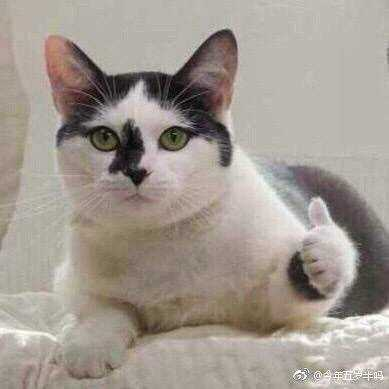cat: (30, 27, 267, 224)
